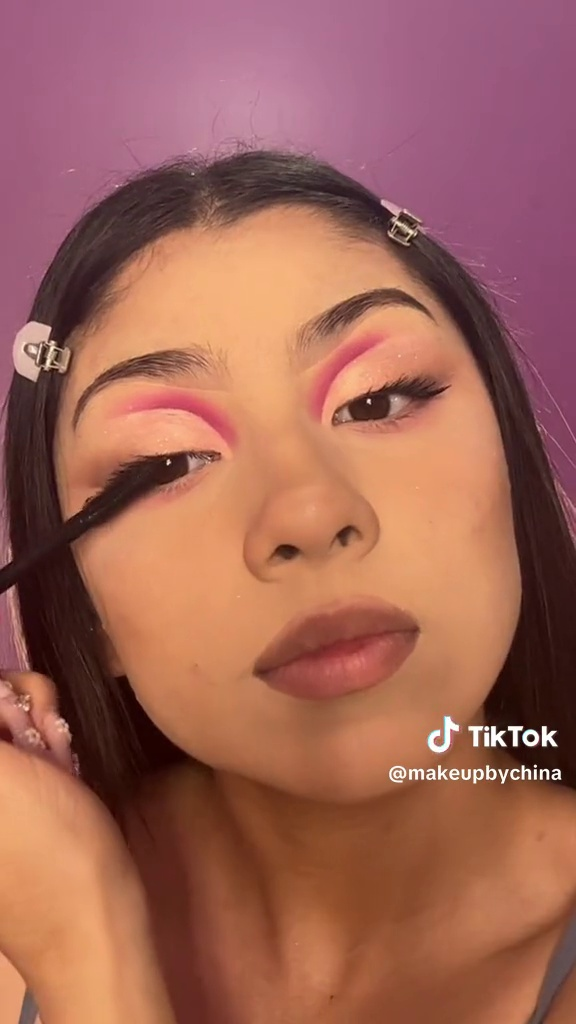train' :'yolo_data/train/images',: (1, 445, 182, 599)
